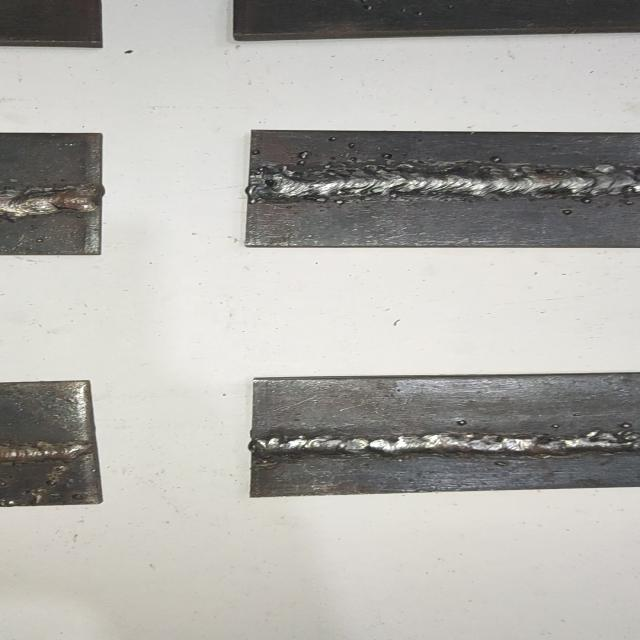Bad Weld: (254, 172, 640, 201), (257, 428, 640, 456)
Defect: (0, 183, 98, 218), (0, 440, 91, 468), (328, 149, 400, 177), (594, 416, 640, 459)
